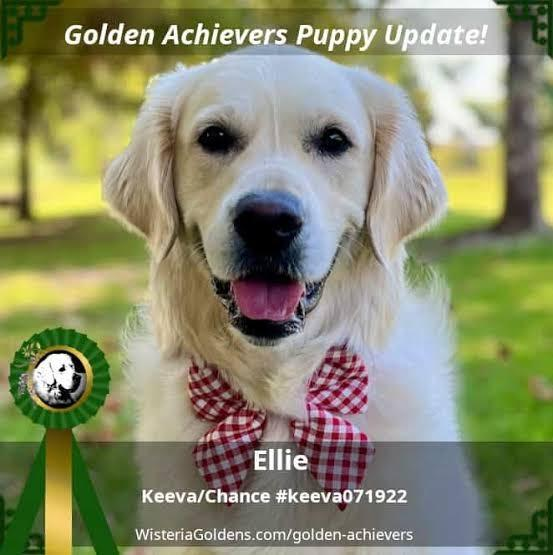adult_dog: (104, 46, 484, 554)
